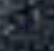three: (19, 20, 26, 31)
zero: (27, 19, 34, 30)
